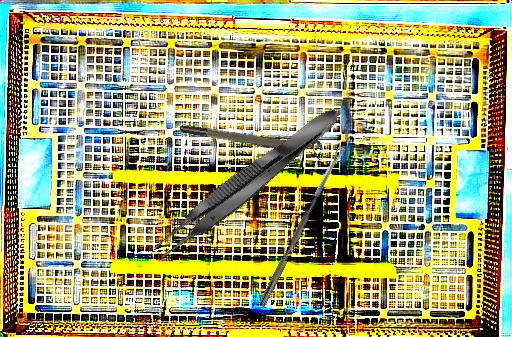Fixation Ring: (178, 116, 325, 160)
Surgical Spoon: (258, 145, 346, 309)
Tissue Forceps: (148, 100, 347, 266)
